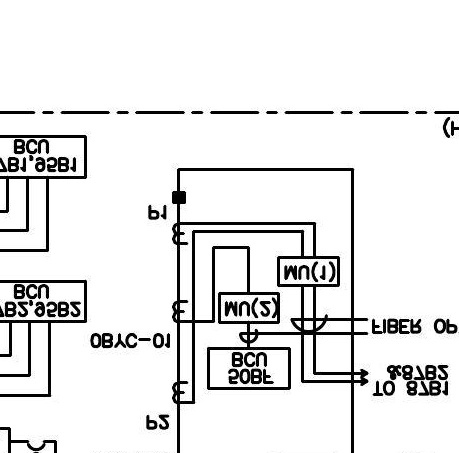MU: (217, 291, 281, 325), (277, 255, 340, 287)
